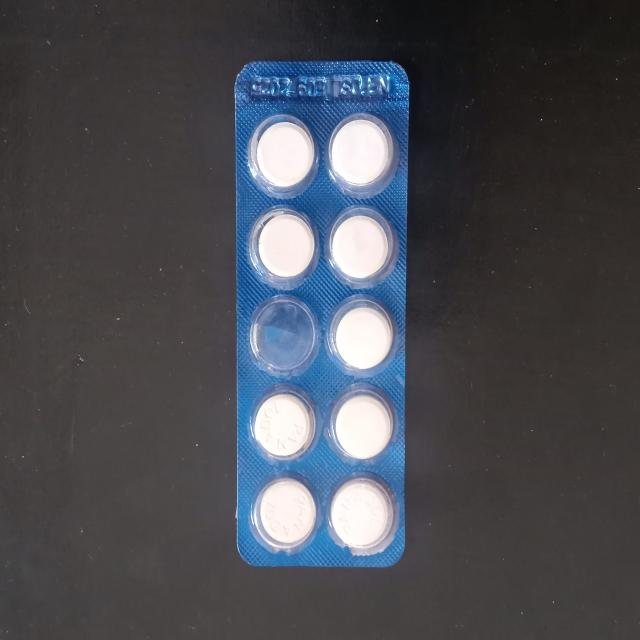defect: (246, 293, 324, 380)
